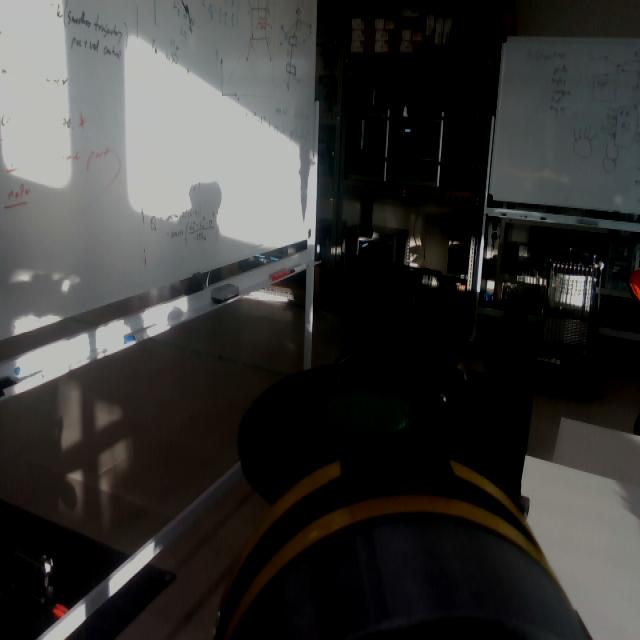body_connector: (228, 515, 588, 640)
connection: (214, 447, 592, 640)
leg: (213, 289, 551, 640)
leg_connector: (209, 448, 548, 636)
marker: (322, 385, 411, 434)
